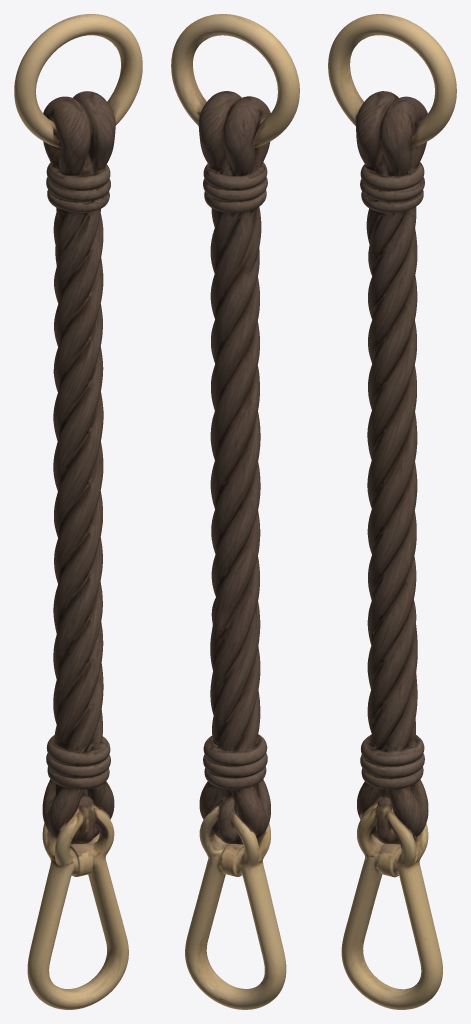
File: short_rope.glb
The picture shows the model from 3 angles, left to right: view 1: azimuth 30°, elevation 25°; view 2: azimuth 150°, elevation 25°; view 3: azimuth 330°, elevation 25°; orthographic projection.
Parts seen in each view (by area): view 1: node_0; view 2: node_0; view 3: node_0.
Part boxes in pixels (<box>): node_0: <box>14,14,142,1009</box>; node_0: <box>171,14,299,1009</box>; node_0: <box>328,14,456,1009</box>.
Size of the model in its own units: 0.1587 by 1.2 by 0.0754.
1 material, 1 textured.
